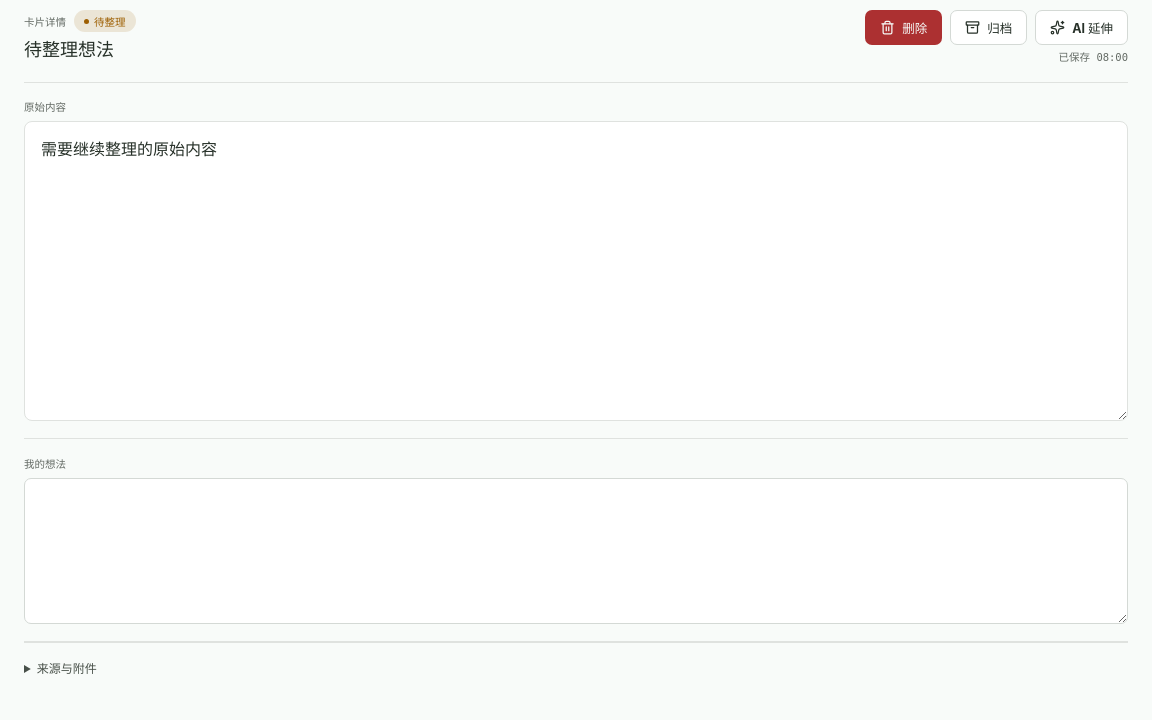
Test case: CardDetail › does not inspect the Keychain until the user activates AI
The image size is (1152, 720).
(page scrolled)
Expected: the field labelled "原始内容" is shown, [41,139,217,159]
Click the button "AI 延伸" at (1082,28), box [1035,10,1128,45]
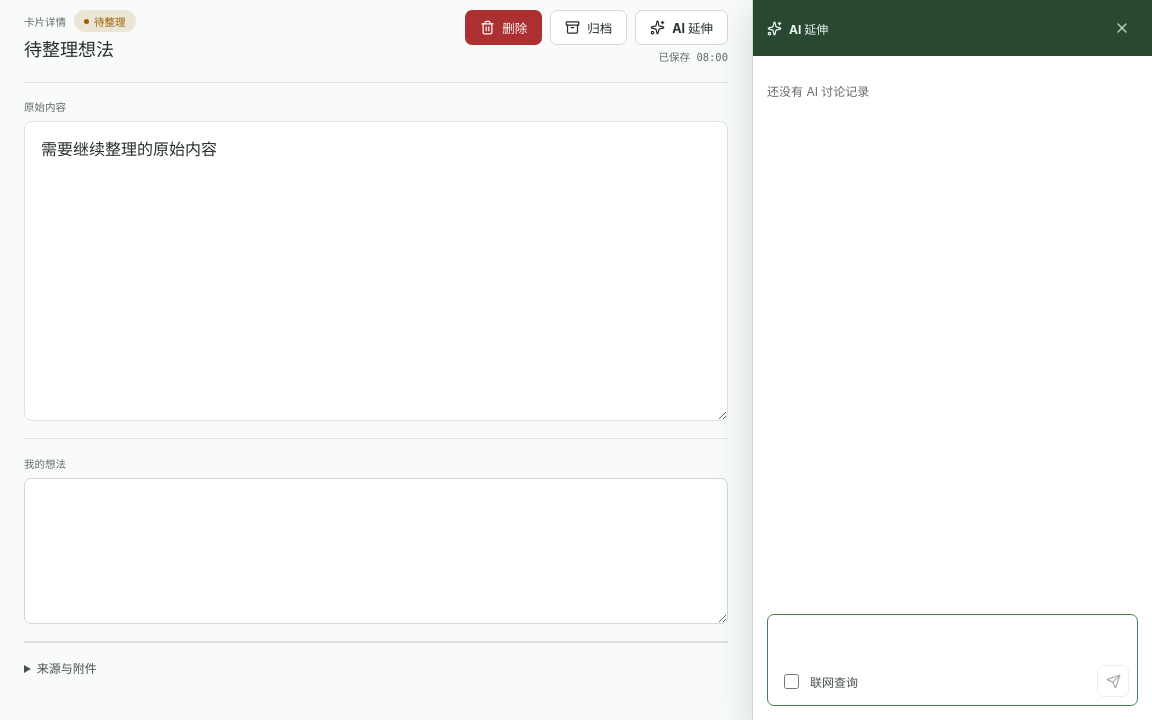
Result: the text box named "和 AI 讨论" is shown at [768,615,1137,659]
